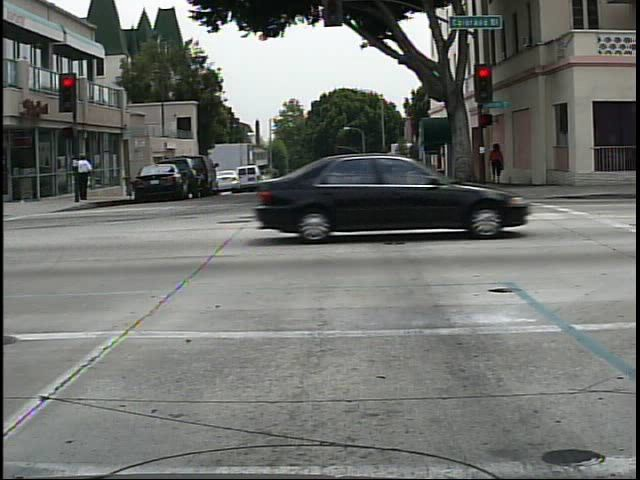person: (79, 147, 99, 204), (488, 137, 508, 186)
